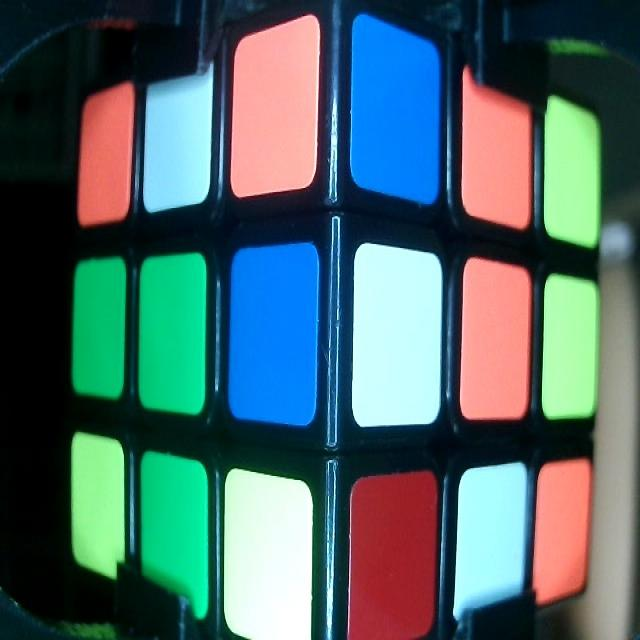b: (234, 256, 318, 401), (352, 42, 438, 180)
g: (142, 470, 206, 598), (144, 266, 202, 397), (76, 272, 120, 388)
o: (237, 50, 312, 172), (466, 275, 528, 406), (466, 96, 528, 216), (542, 471, 587, 584), (84, 100, 128, 203)
r: (352, 489, 432, 616)
w: (356, 262, 442, 404), (462, 478, 525, 595), (149, 94, 208, 190)
y: (225, 492, 312, 632), (546, 295, 598, 416), (72, 442, 119, 560), (548, 120, 596, 235)
